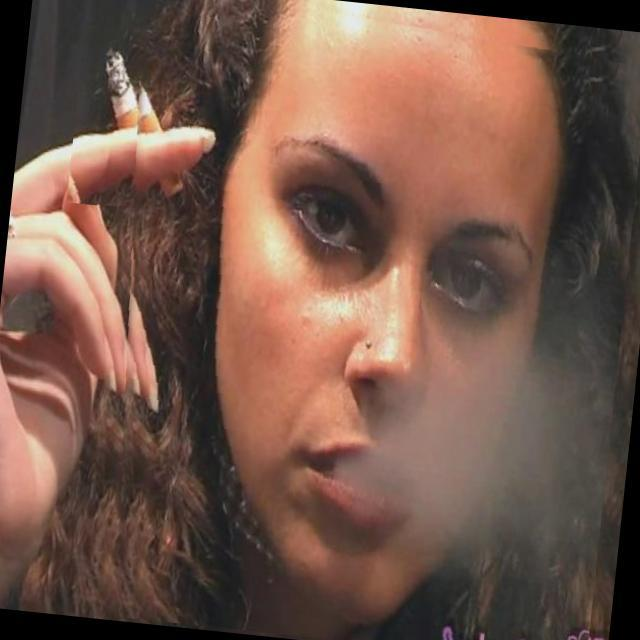cigarette: (66, 26, 188, 213)
